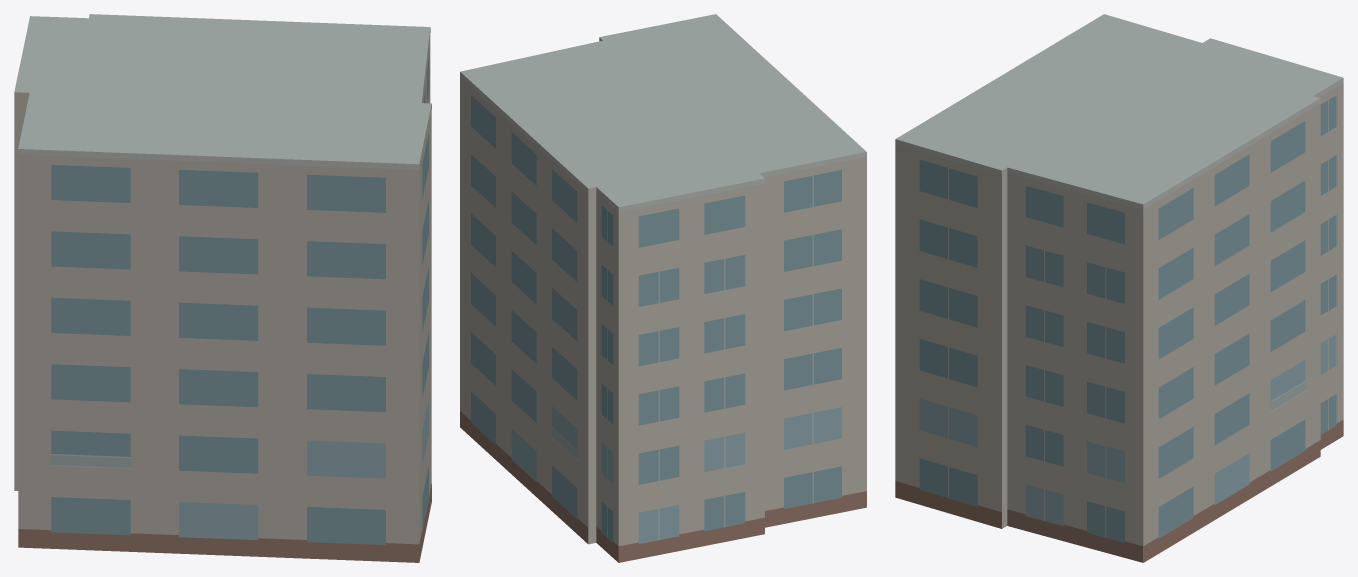
The model's file is survey-upis-32938322.glb.
3 renders of one model, left to right at view 1: azimuth 30°, elevation 25°; view 2: azimuth 150°, elevation 25°; view 3: azimuth 270°, elevation 25°, orthographic. The views are drawn at different scales.
Visible parts, largest first — view 1: survey-upis-32938322.tmp; view 2: survey-upis-32938322.tmp; view 3: survey-upis-32938322.tmp.
Part boxes in pixels (x1,y1,x2,y2): survey-upis-32938322.tmp: (14, 14, 431, 562); survey-upis-32938322.tmp: (460, 14, 866, 562); survey-upis-32938322.tmp: (895, 14, 1343, 562).
Size of the model in its own units: 19.61 by 17.2 by 19.5.
